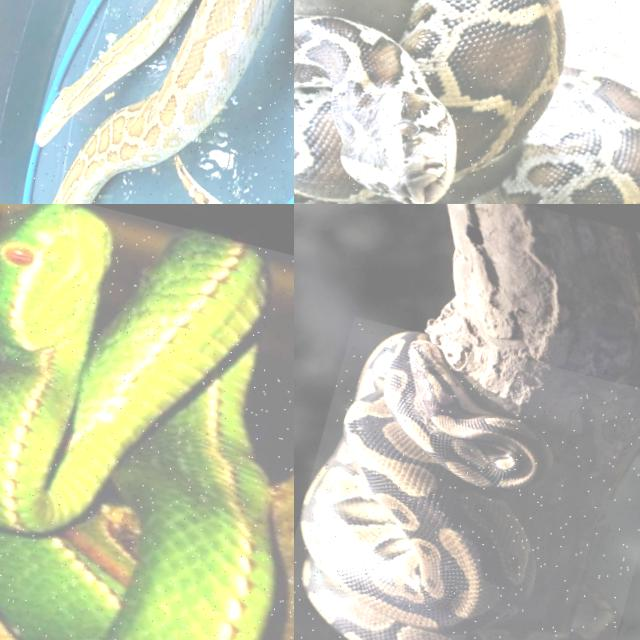Python bivittatus: (301, 332, 620, 639), (294, 0, 639, 203), (53, 0, 276, 203)
Trimeresurus: (0, 204, 274, 639)
